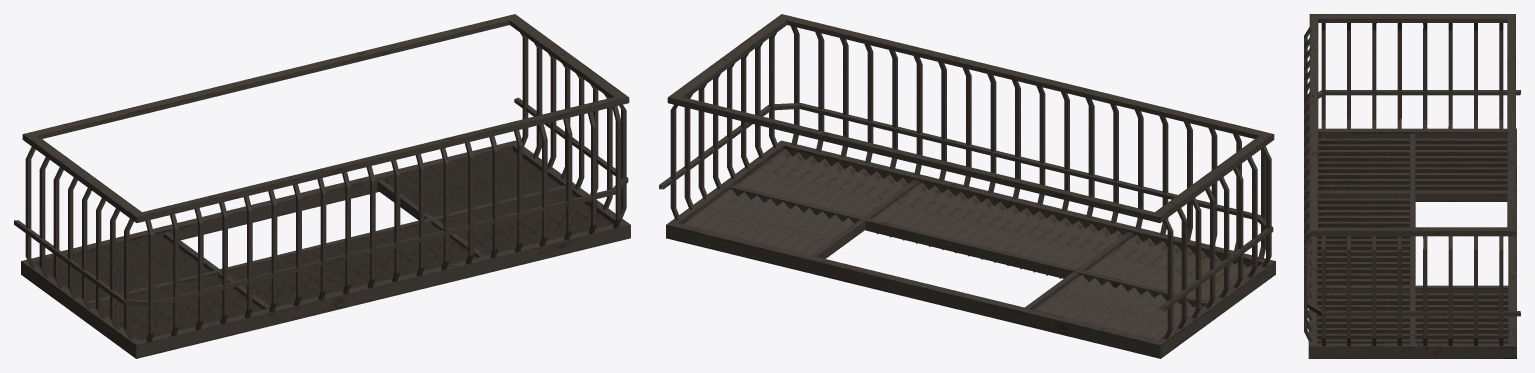
The model's file is Prop_FireEscape_Top.gltf.
3 views of the same model, side by side, from view 1: azimuth 30°, elevation 25°; view 2: azimuth 150°, elevation 25°; view 3: azimuth 270°, elevation 25° (orthographic). The views are drawn at different scales.
Parts seen in each view (by area): view 1: Prop_FireEscape_Top; view 2: Prop_FireEscape_Top; view 3: Prop_FireEscape_Top.
Boxes of the visible parts, bbox=[...] form: Prop_FireEscape_Top: bbox=[14, 14, 630, 358]; Prop_FireEscape_Top: bbox=[659, 14, 1275, 358]; Prop_FireEscape_Top: bbox=[1304, 14, 1520, 358].
Bounding box in the file's own units: 4.8 × 1.28 × 1.98.
Materials: 1 (1 with a texture image).
